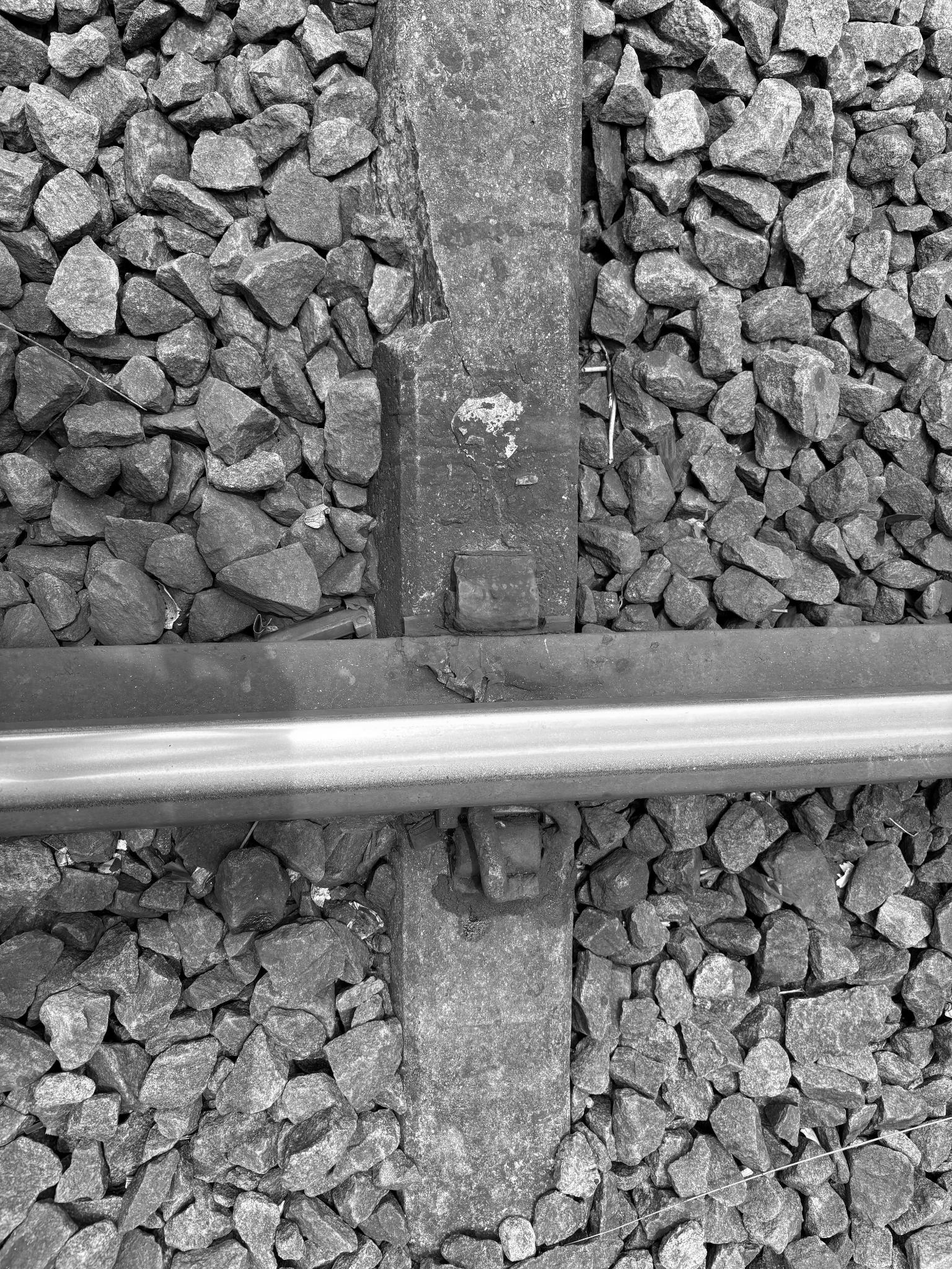cracks under rail seat: (362, 49, 513, 463), (400, 841, 457, 991)
